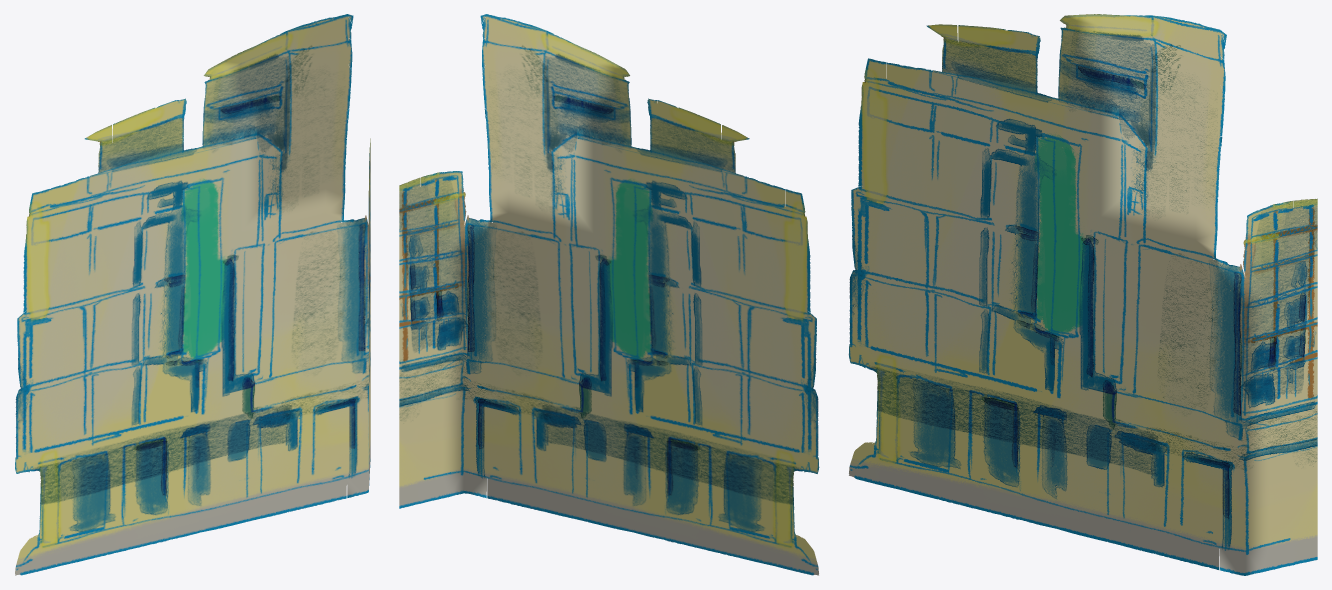
Rendered from house_2.fbx.
The picture shows the model from 3 angles, left to right: view 1: azimuth 30°, elevation 25°; view 2: azimuth 150°, elevation 25°; view 3: azimuth 330°, elevation 25°; orthographic projection. The views are drawn at different scales.
Visible parts, largest first — view 1: mask3; view 2: mask3; view 3: mask3.
Boxes of the visible parts, x1,y1,x2,y2 form: mask3: (15,14,370,575); mask3: (399,14,819,575); mask3: (848,14,1317,575).
Size of the model in its own units: 10.53 by 12.6 by 1.54.
1 material, 1 textured.
